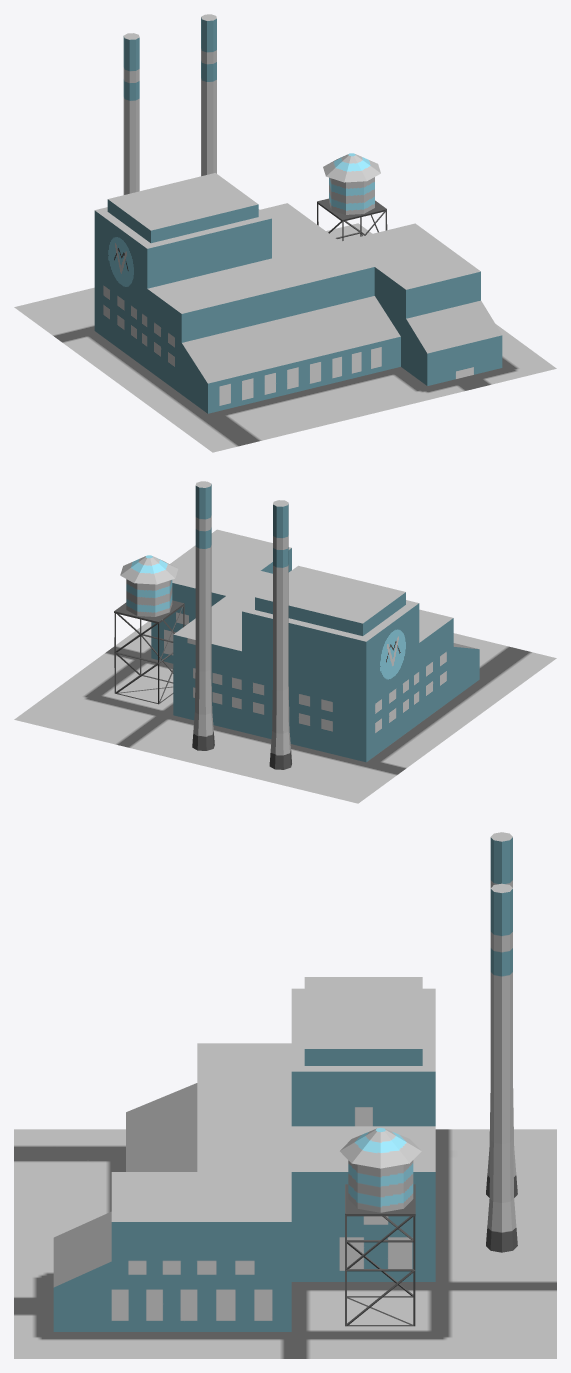
File: FactoryB.fbx
The picture shows the model from 3 angles, top to bottom: view 1: azimuth 30°, elevation 25°; view 2: azimuth 150°, elevation 25°; view 3: azimuth 270°, elevation 25°; orthographic projection. The views are drawn at different scales.
Visible parts, largest first — view 1: FactoryB, Factory_GroundB; view 2: FactoryB, Factory_GroundB; view 3: FactoryB, Factory_GroundB.
Boxes of the visible parts, <box> form: FactoryB: <box>94,14,502,413</box>; Factory_GroundB: <box>14,223,556,452</box>; FactoryB: <box>114,481,479,769</box>; Factory_GroundB: <box>14,621,556,803</box>; FactoryB: <box>53,832,517,1331</box>; Factory_GroundB: <box>14,1129,556,1358</box>.
Bounding box in the file's own units: 445 × 324 × 445.
